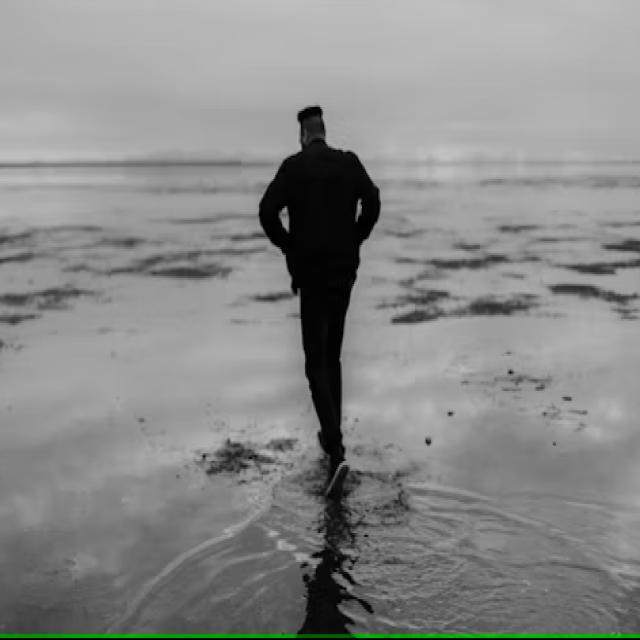Edited images: (255, 86, 421, 504)
